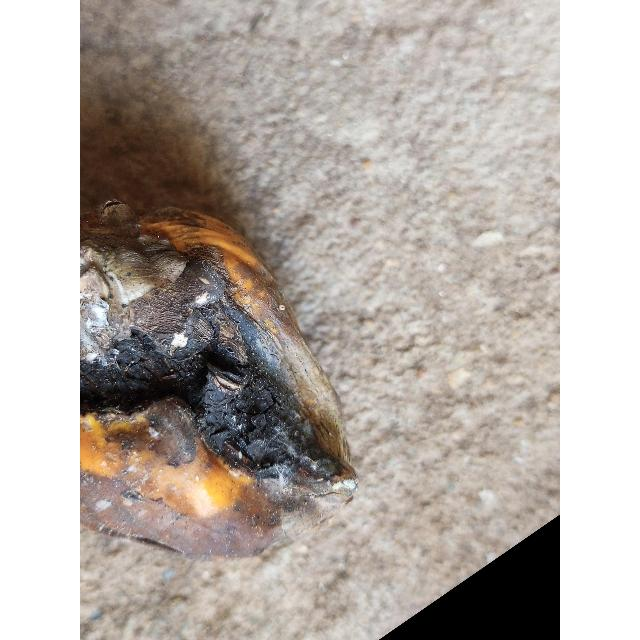damaged: (80, 199, 356, 564)
